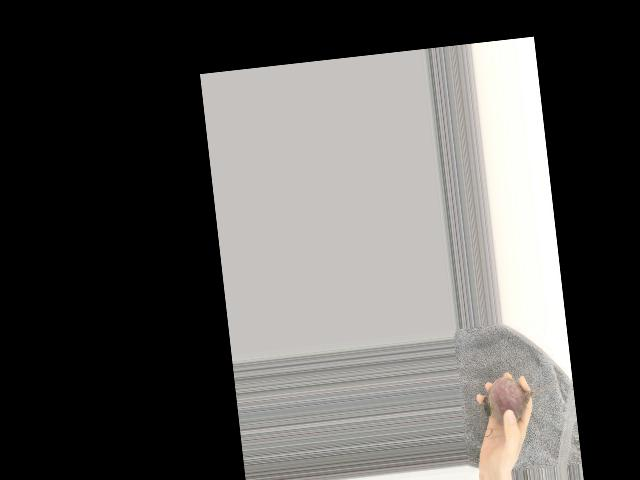beet: (480, 370, 563, 427)
